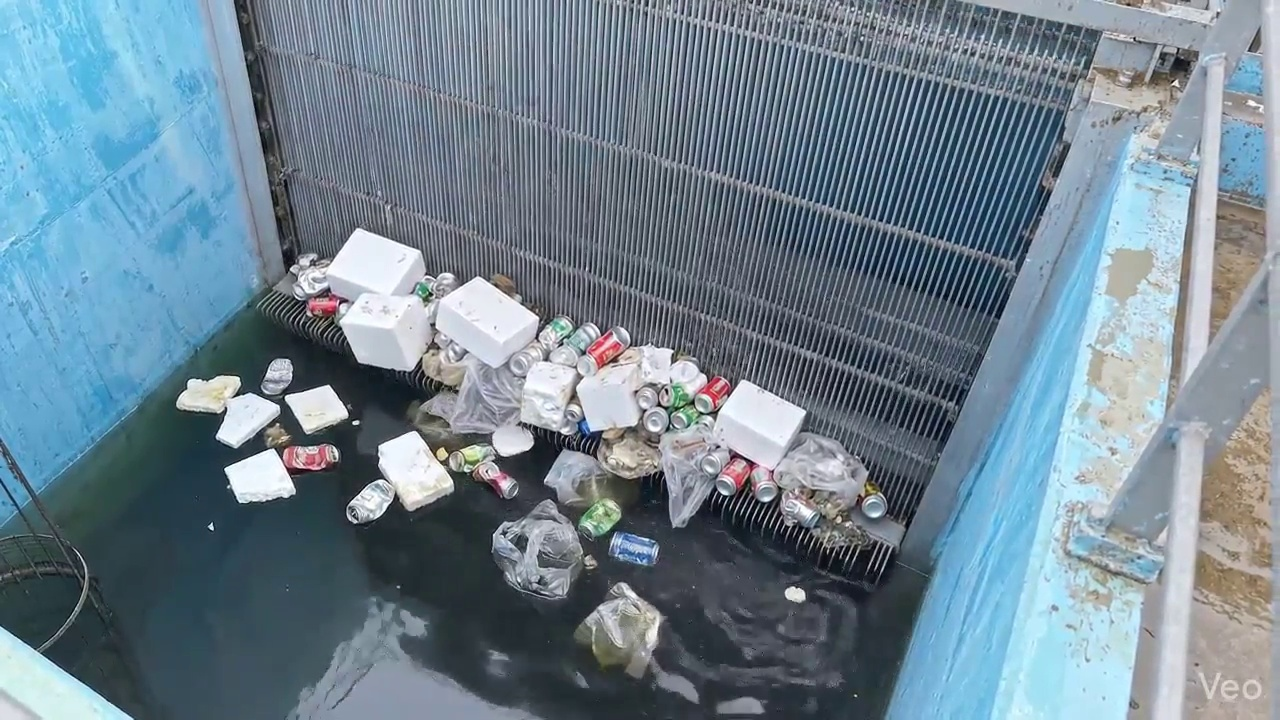debris: (436, 278, 537, 367), (492, 500, 583, 598), (574, 583, 662, 677), (714, 381, 805, 468), (339, 295, 433, 370), (774, 433, 867, 508), (328, 229, 424, 299), (378, 431, 453, 511), (449, 357, 523, 433), (659, 428, 713, 527), (544, 451, 633, 506), (577, 365, 641, 430), (520, 362, 580, 429), (224, 449, 296, 503), (215, 393, 280, 447), (597, 429, 660, 478), (284, 385, 348, 433), (576, 326, 630, 376), (407, 393, 456, 447), (176, 376, 240, 413), (549, 322, 600, 367), (346, 479, 395, 523), (659, 373, 707, 411), (472, 461, 518, 499), (579, 498, 621, 539), (421, 347, 464, 386), (291, 256, 329, 300), (609, 532, 658, 566), (633, 345, 672, 386), (779, 490, 821, 528), (282, 444, 340, 471), (714, 457, 752, 496), (507, 341, 547, 376), (693, 376, 730, 413), (491, 424, 533, 456), (448, 444, 495, 472), (537, 315, 574, 350), (260, 358, 293, 396), (859, 481, 887, 519), (438, 351, 467, 387), (421, 391, 457, 420), (750, 465, 778, 502), (698, 448, 731, 476), (306, 295, 348, 317), (668, 357, 702, 384), (715, 697, 764, 715), (669, 405, 701, 429), (642, 407, 669, 433), (432, 272, 458, 299), (412, 275, 435, 305), (490, 273, 517, 297), (263, 424, 291, 447), (636, 385, 659, 410), (564, 402, 585, 424), (784, 586, 806, 603), (1245, 99, 1264, 111), (583, 554, 597, 570), (435, 447, 448, 462), (207, 522, 215, 532), (351, 419, 360, 426)
